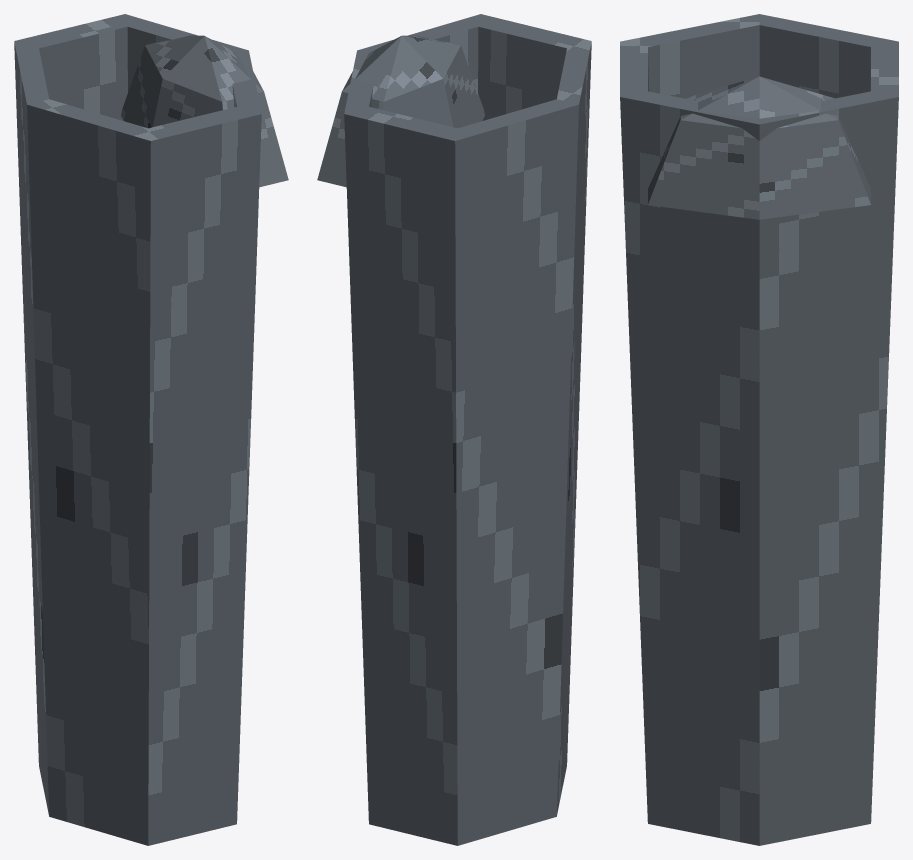
The model's file is malla.glb.
3 renders of one model, left to right at view 1: azimuth 30°, elevation 25°; view 2: azimuth 150°, elevation 25°; view 3: azimuth 270°, elevation 25°, orthographic. The views are drawn at different scales.
Parts seen in each view (by area): view 1: greba, rodillera; view 2: greba, rodillera; view 3: greba, rodillera.
Part boxes in pixels (left/top/right/bottom): greba: left=14, top=14, right=261, bottom=845; rodillera: left=121, top=35, right=288, bottom=187; greba: left=344, top=14, right=591, bottom=845; rodillera: left=317, top=35, right=484, bottom=187; greba: left=620, top=14, right=898, bottom=845; rodillera: left=648, top=76, right=870, bottom=219.
Size of the model in its own units: 0.15 by 0.45 by 0.15.
Materials: 1 (1 with a texture image).
